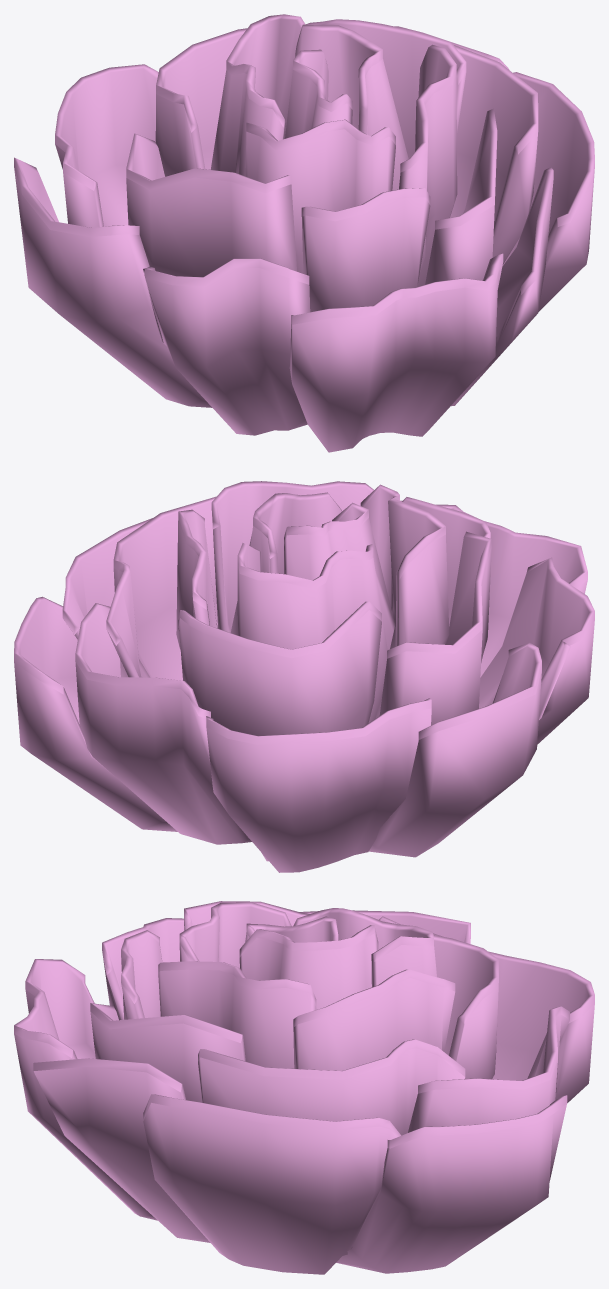
The model's file is rose.fbx.
3 renders of one model, top to bottom at view 1: azimuth 30°, elevation 25°; view 2: azimuth 150°, elevation 25°; view 3: azimuth 270°, elevation 25°, orthographic. The views are drawn at different scales.
Parts seen in each view (by area): view 1: BézierCurve; view 2: BézierCurve; view 3: BézierCurve.
Boxes of the visible parts, bbox=[...] form: BézierCurve: bbox=[14, 14, 594, 452]; BézierCurve: bbox=[14, 481, 594, 872]; BézierCurve: bbox=[14, 901, 594, 1274].
Bounding box in the file's own units: 29.45 × 20.05 × 31.86.
